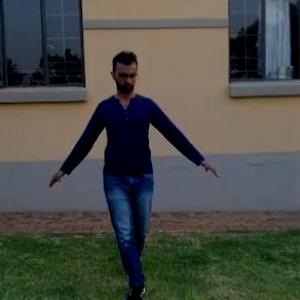land: (53, 33, 220, 284)
